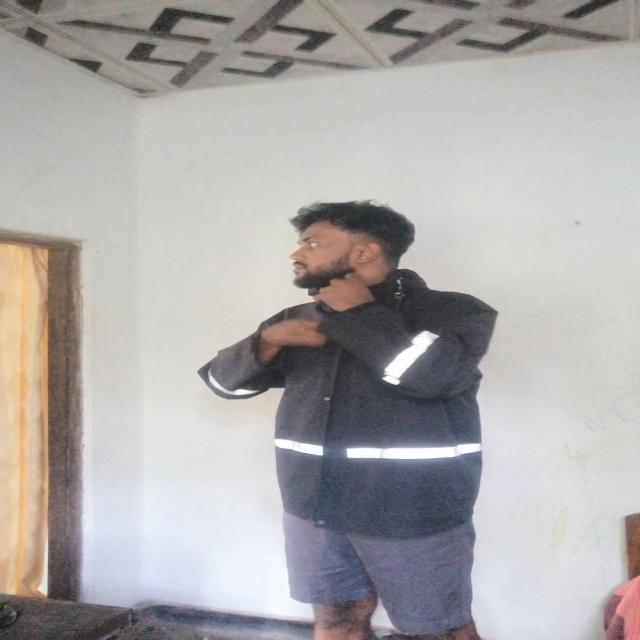Jacket_Wearer: (203, 274, 518, 534)
Person: (182, 202, 511, 640)
